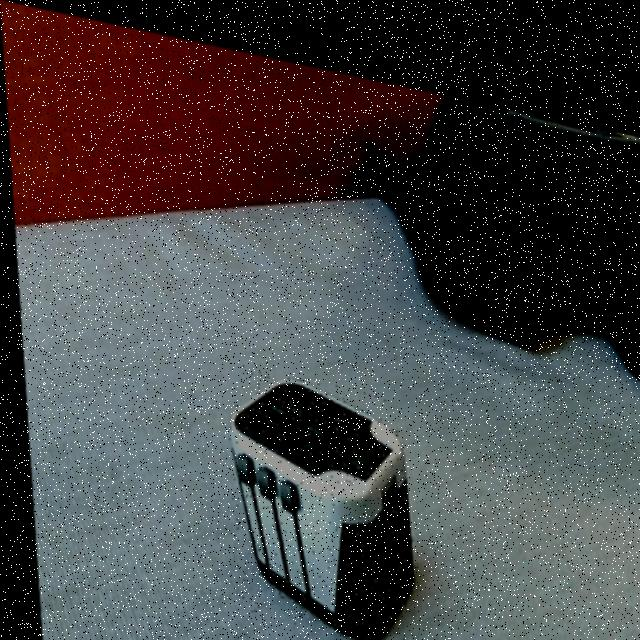adapter: (219, 352, 412, 636)
